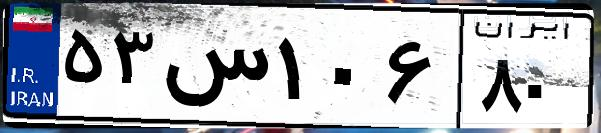0: (330, 28, 385, 110), (525, 38, 570, 115)
1: (270, 28, 330, 110)
3: (110, 28, 158, 98)
5: (57, 26, 110, 100)
6: (385, 28, 445, 110)
8: (475, 38, 525, 113)
س: (158, 20, 270, 120)
